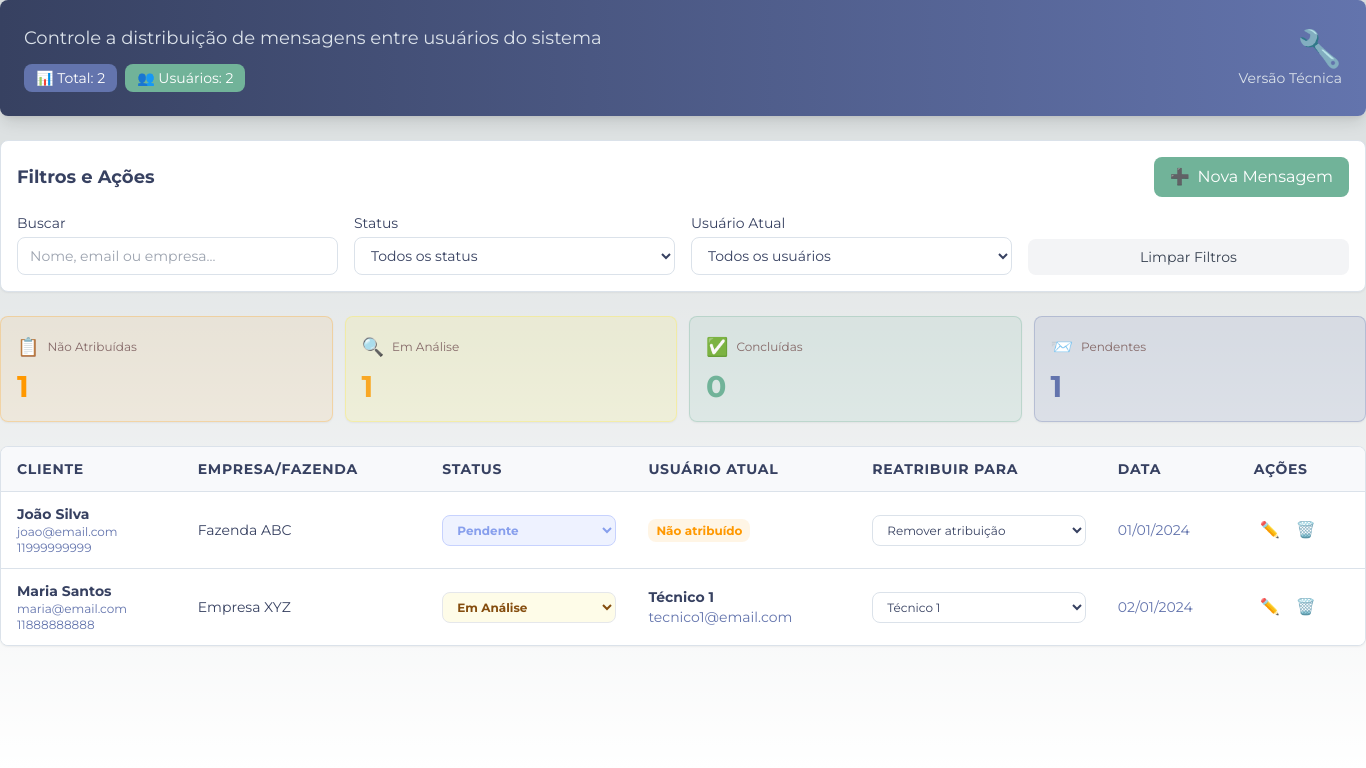
Test: MensagensTecnicasManager › deve fechar modal de criação
The width and height of the screenshot is (1366, 768).
Click the text "Nova Mensagem" at (1265, 177), box 1198,165 -> 1333,189
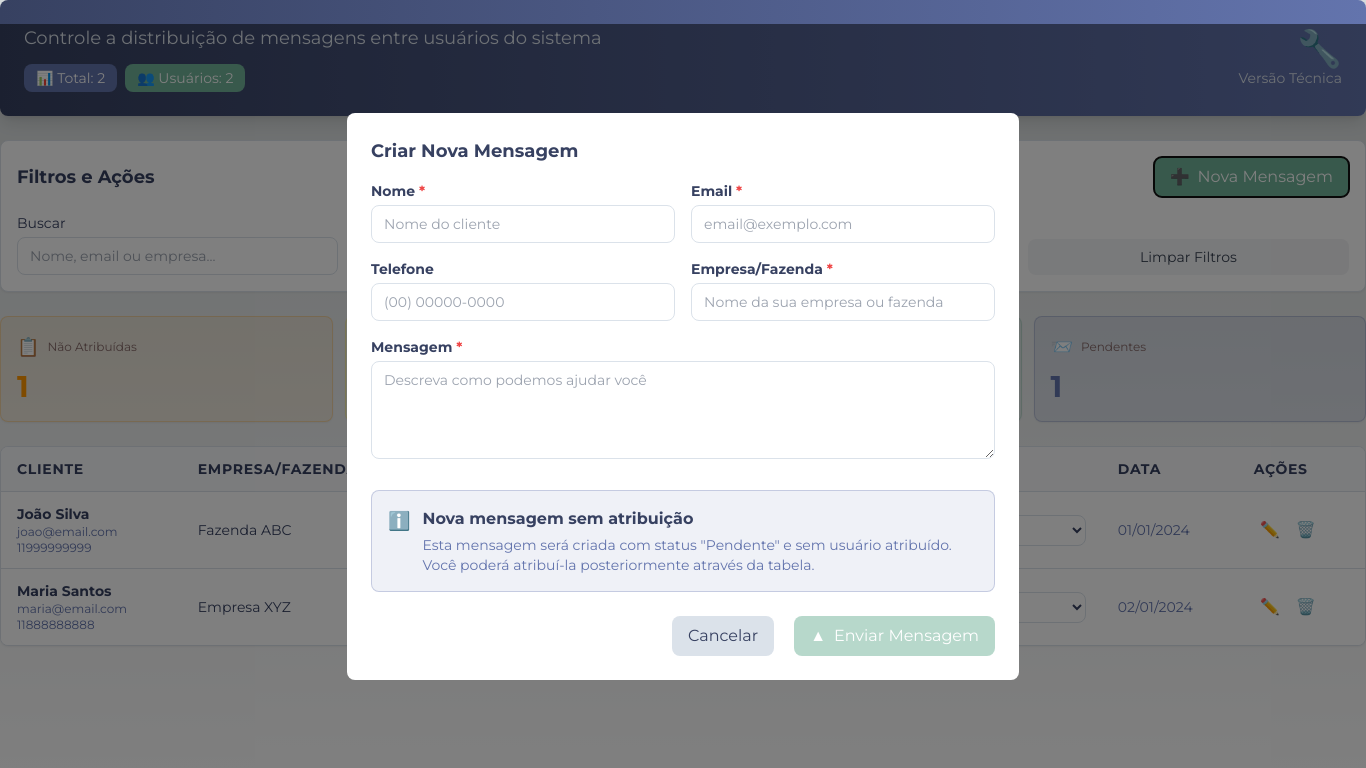
Expected: the heading "Criar Nova Mensagem" is shown, 371,140 -> 578,162
Click the button "Cancelar" at (723, 636), box 672,616 -> 774,656
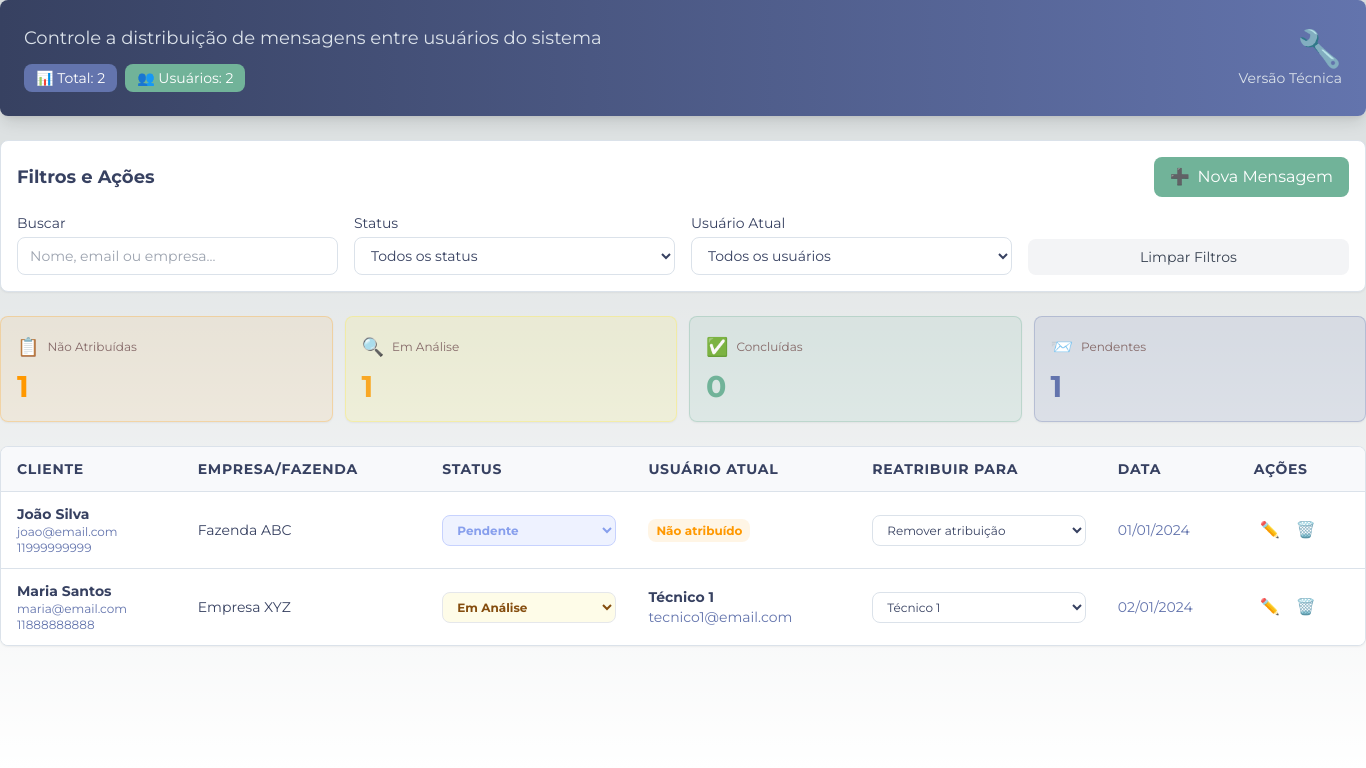
Expected: the heading "Criar Nova Mensagem" is gone
